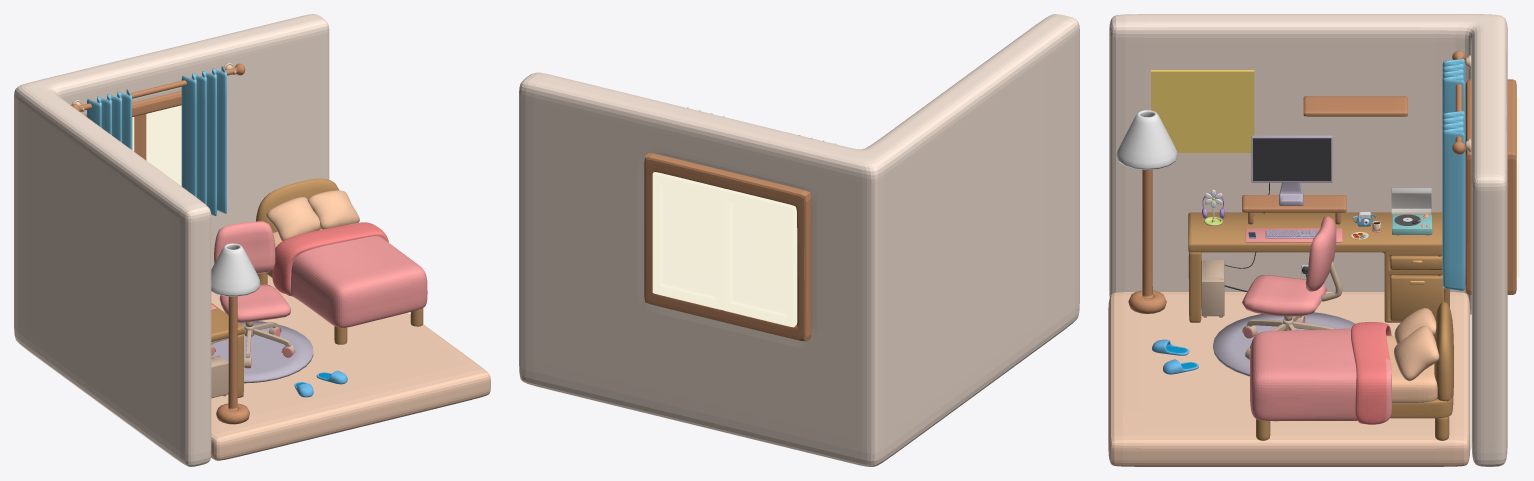
Rendered from cozy_room_draco.glb.
The picture shows the model from 3 angles, left to right: view 1: azimuth 30°, elevation 25°; view 2: azimuth 150°, elevation 25°; view 3: azimuth 270°, elevation 25°; orthographic projection. The views are drawn at different scales.
Visible parts, largest first — view 1: wall, floor, blanket, Plane.001, Cylinder.001, wall.002, chair, lamp, curtains, Cylinder.003, Cube.001, mattress.002 (+8 smaller); view 2: wall, wall.003, wall.002, window; view 3: wall, floor, blanket, table, Cube, Plane.001, Cube.006, window, drawers, Cube.001, lamp, Cylinder.001 (+20 smaller).
Part boxes in pixels (x1,y1,x2,y2): wall: (14, 14, 329, 466); floor: (211, 275, 490, 460); blanket: (272, 222, 427, 327); Plane.001: (181, 66, 226, 215); Cylinder.001: (211, 321, 313, 383); wall.002: (140, 105, 181, 185); chair: (214, 221, 275, 273); lamp: (211, 243, 260, 296); curtains: (86, 89, 132, 149); Cylinder.003: (216, 296, 249, 424); Cube.001: (219, 284, 290, 322); mattress.002: (266, 197, 320, 241); wall: (519, 14, 1079, 466); wall.003: (722, 189, 797, 327); wall.002: (652, 172, 724, 309); window: (644, 153, 811, 341); wall: (1109, 14, 1507, 466); floor: (1108, 292, 1470, 466); blanket: (1250, 322, 1391, 424); table: (1188, 212, 1449, 322); Cube: (1151, 70, 1254, 152); Plane.001: (1442, 111, 1465, 290); Cube.006: (1251, 135, 1332, 182); window: (1465, 79, 1516, 294); drawers: (1390, 255, 1444, 320); Cube.001: (1242, 275, 1327, 316); lamp: (1116, 110, 1178, 169); Cylinder.001: (1213, 312, 1355, 376).
Size of the model in its own units: 5.08 by 4 by 5.11.
